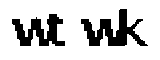k: (118, 7, 150, 49)
t: (47, 11, 73, 50)
w: (78, 16, 121, 49), (8, 17, 49, 48)
